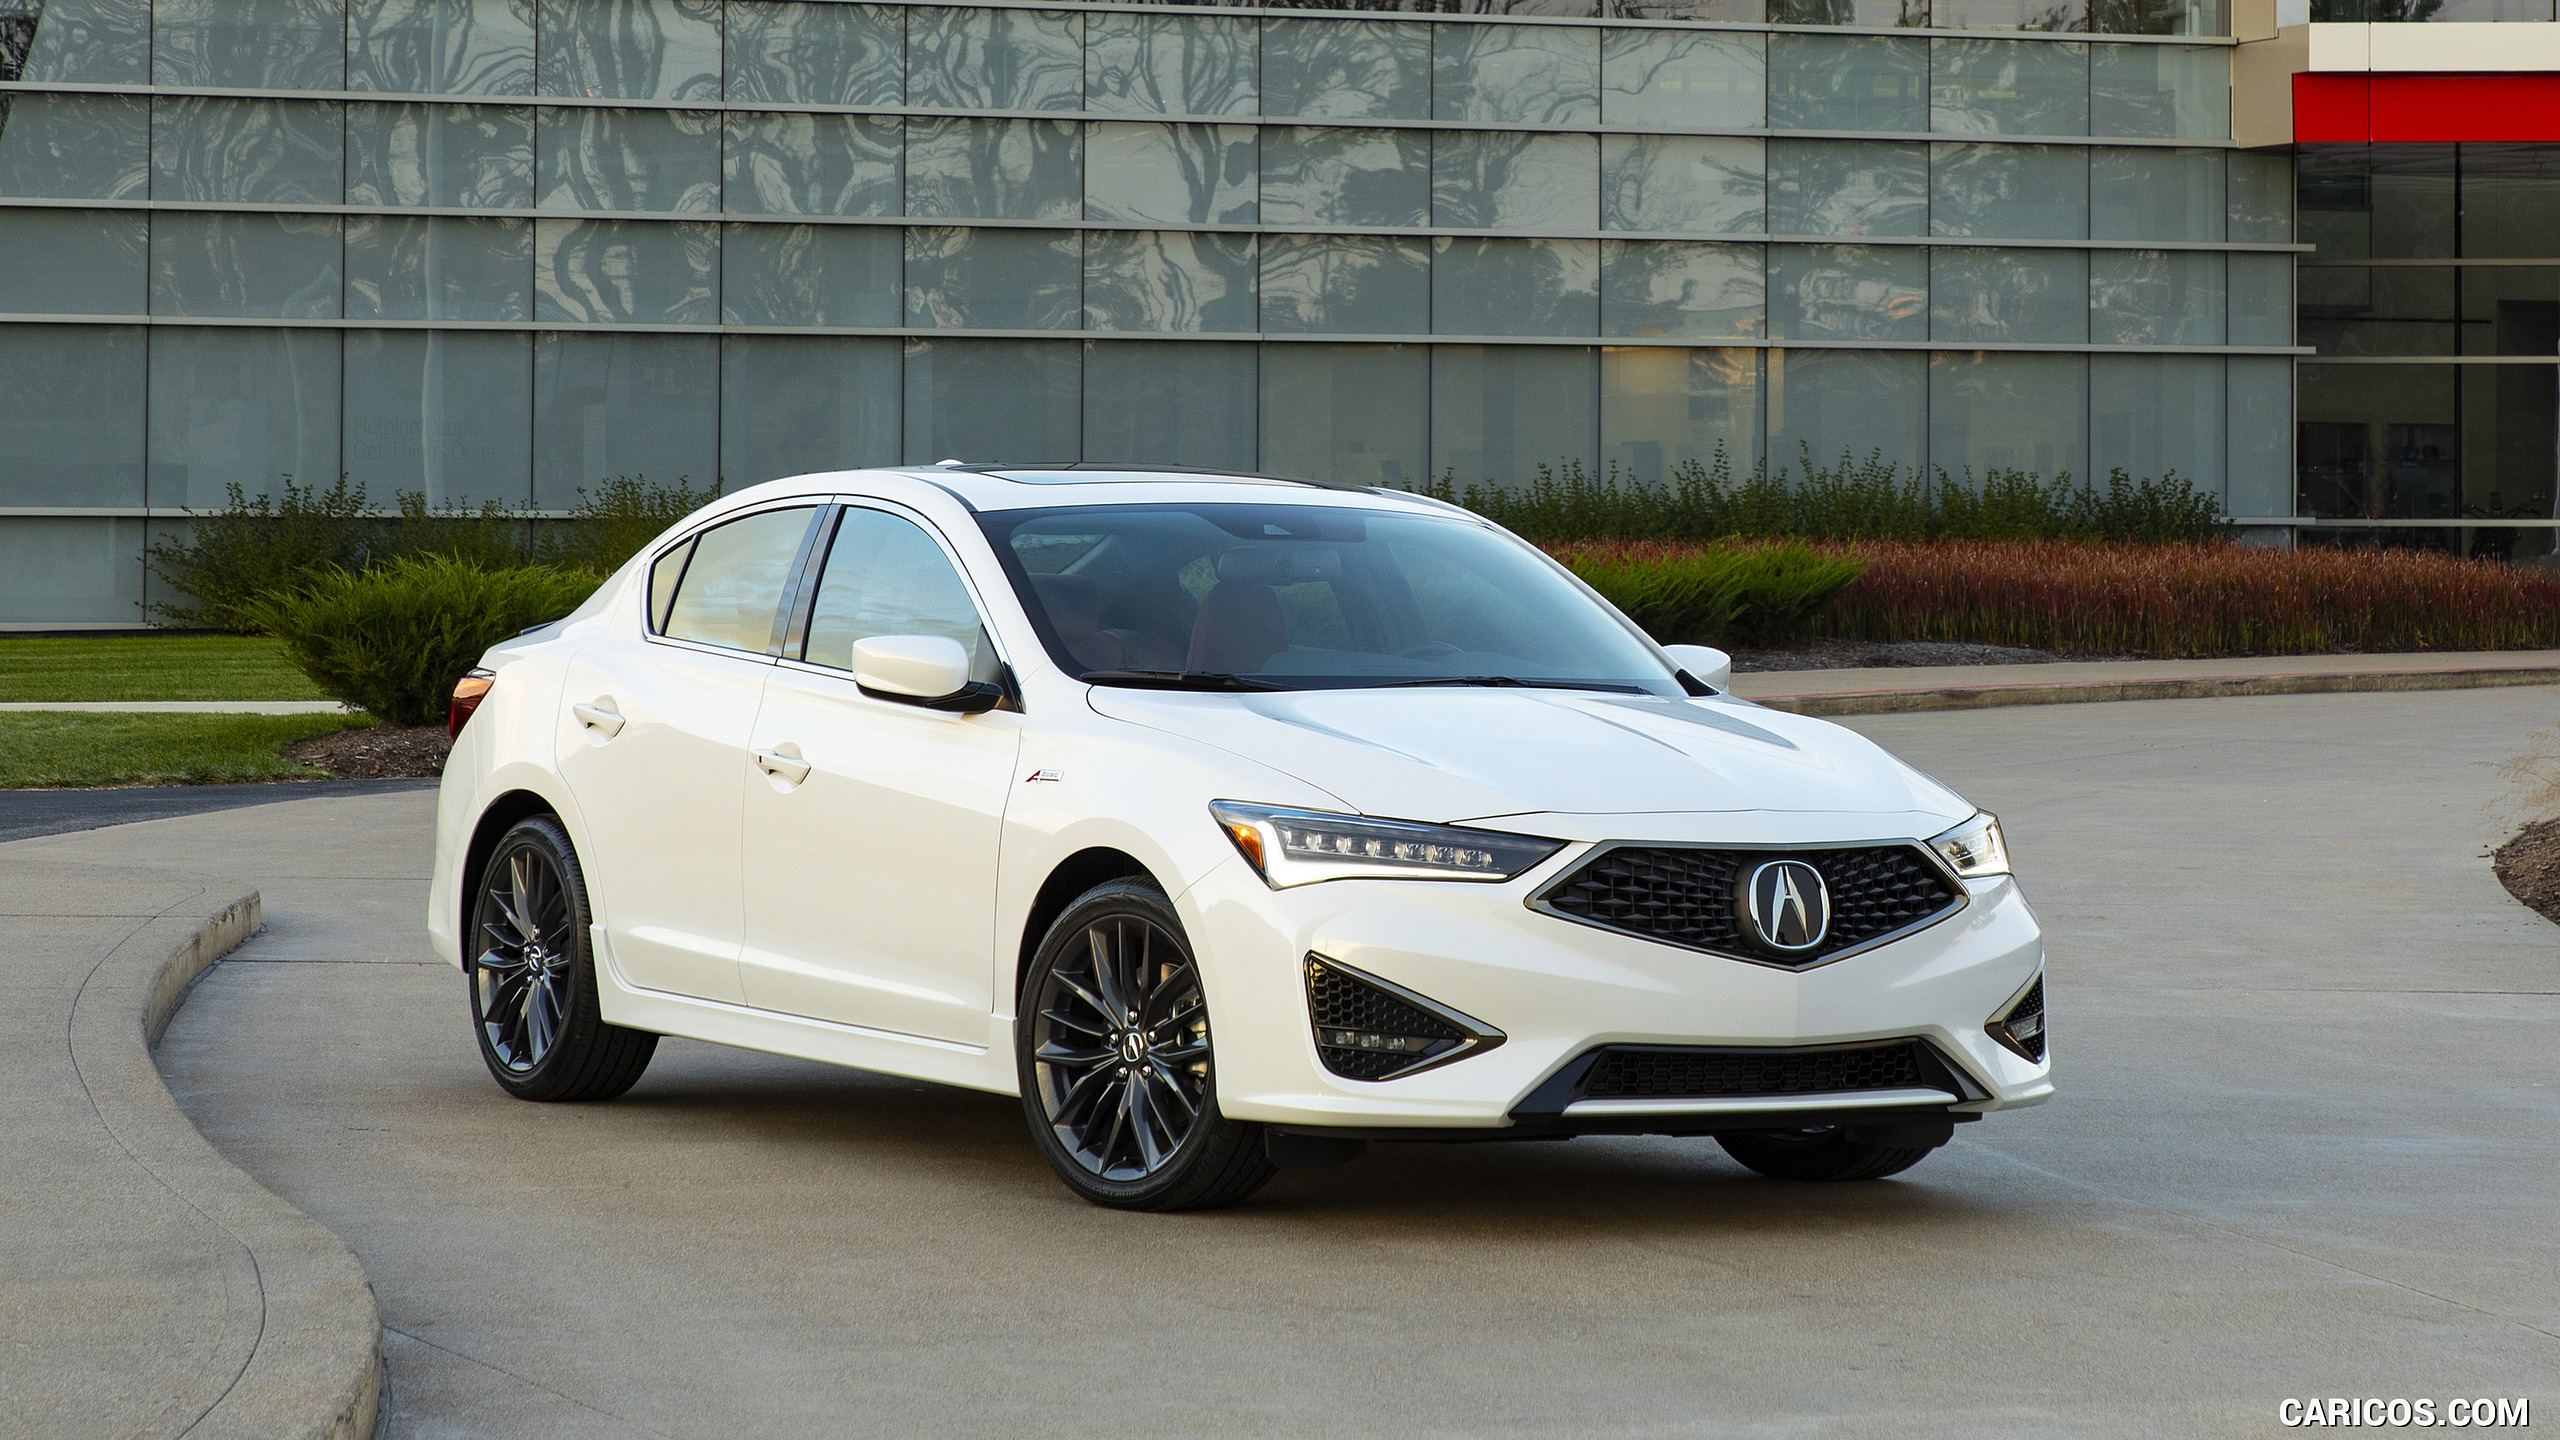Fog Lamp & Scope: (1319, 993, 1456, 1085)
Front: (1060, 700, 2061, 1131)
Front Bumper: (1196, 951, 2055, 1129)
Grill: (1581, 851, 1946, 958)
Headlight: (1206, 804, 1538, 890)
